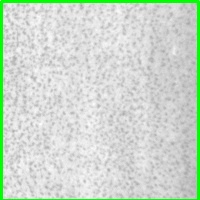pitted_surface: (1, 1, 198, 200)
